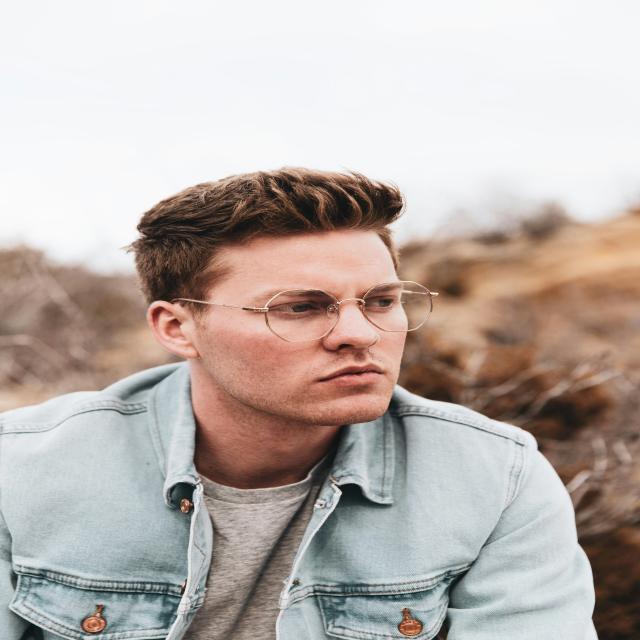human: (6, 157, 602, 640)
